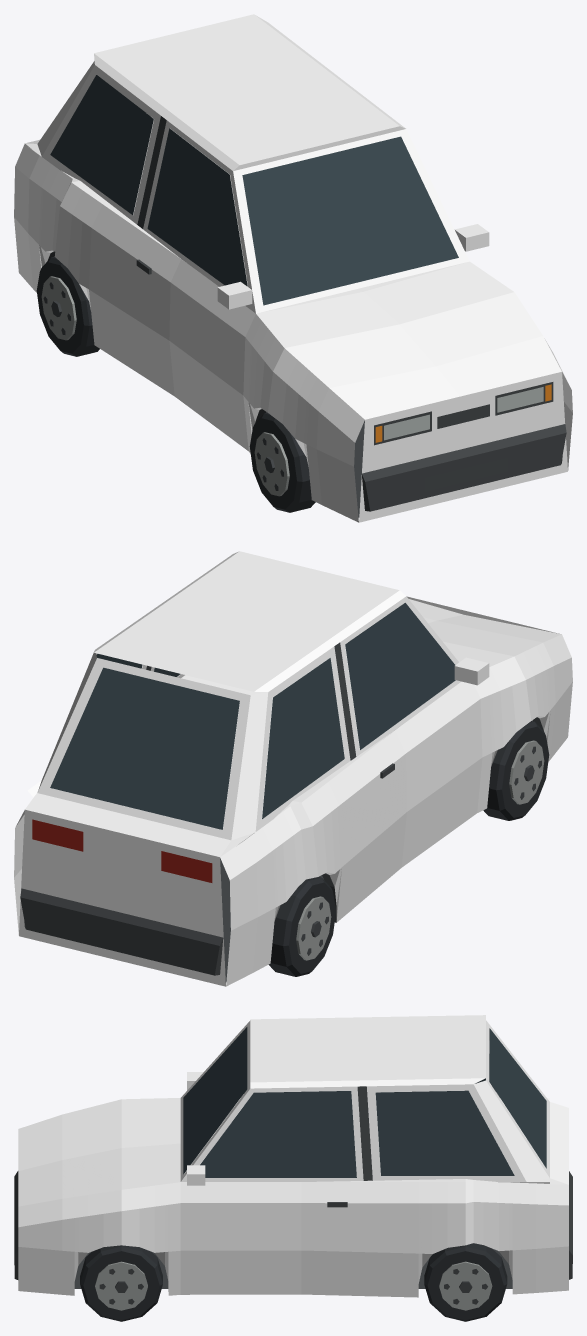
The model's file is whitlock_saddle.glb.
3 renders of one model, top to bottom at view 1: azimuth 30°, elevation 25°; view 2: azimuth 150°, elevation 25°; view 3: azimuth 270°, elevation 25°, orthographic. The views are drawn at different scales.
Visible parts, largest first — view 1: whitlock_saddle; view 2: whitlock_saddle; view 3: whitlock_saddle.
Boxes of the visible parts, bbox=[...] form: whitlock_saddle: bbox=[14, 14, 572, 522]; whitlock_saddle: bbox=[14, 551, 572, 986]; whitlock_saddle: bbox=[14, 1015, 572, 1321].
Bounding box in the file's own units: 1.59 × 1.62 × 3.62.
Materials: 8 (1 with a texture image).
